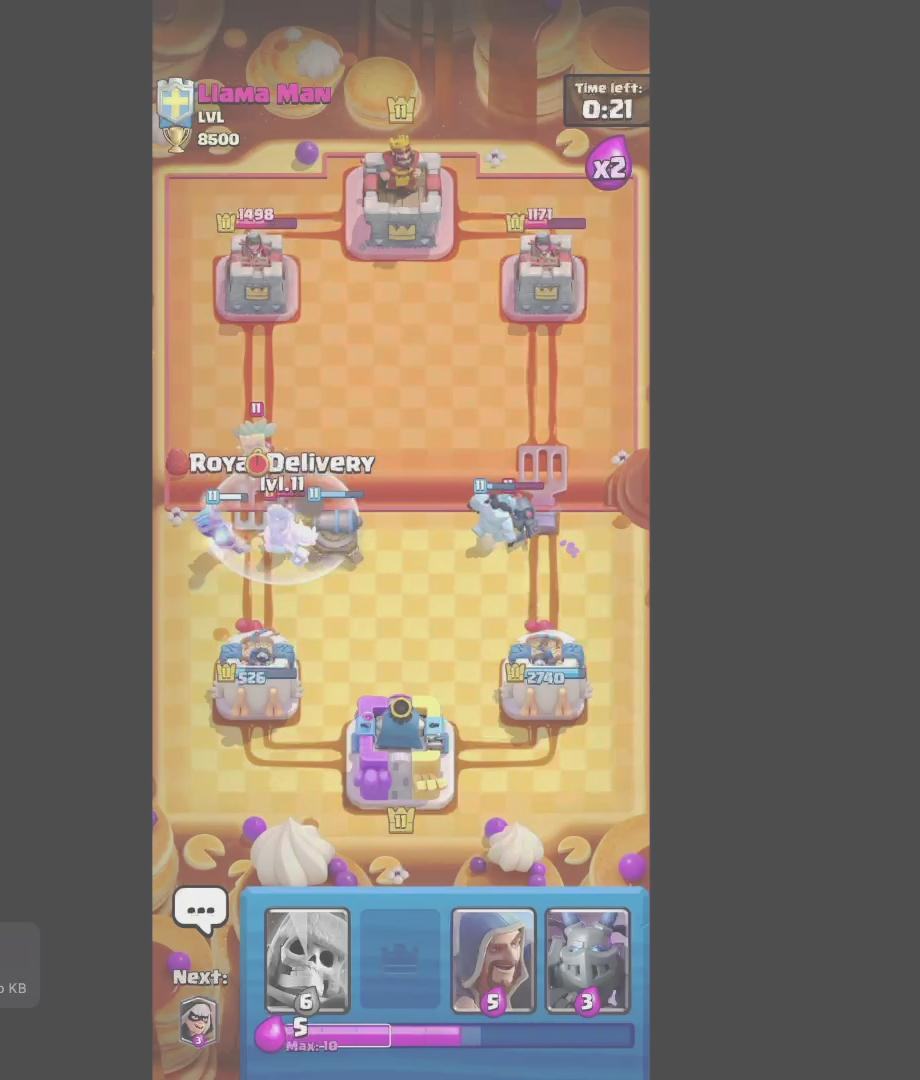Dart Goblin: (232, 401, 280, 475)
Hog Rider: (261, 485, 317, 566)
Mini Pekka: (501, 477, 548, 548)
